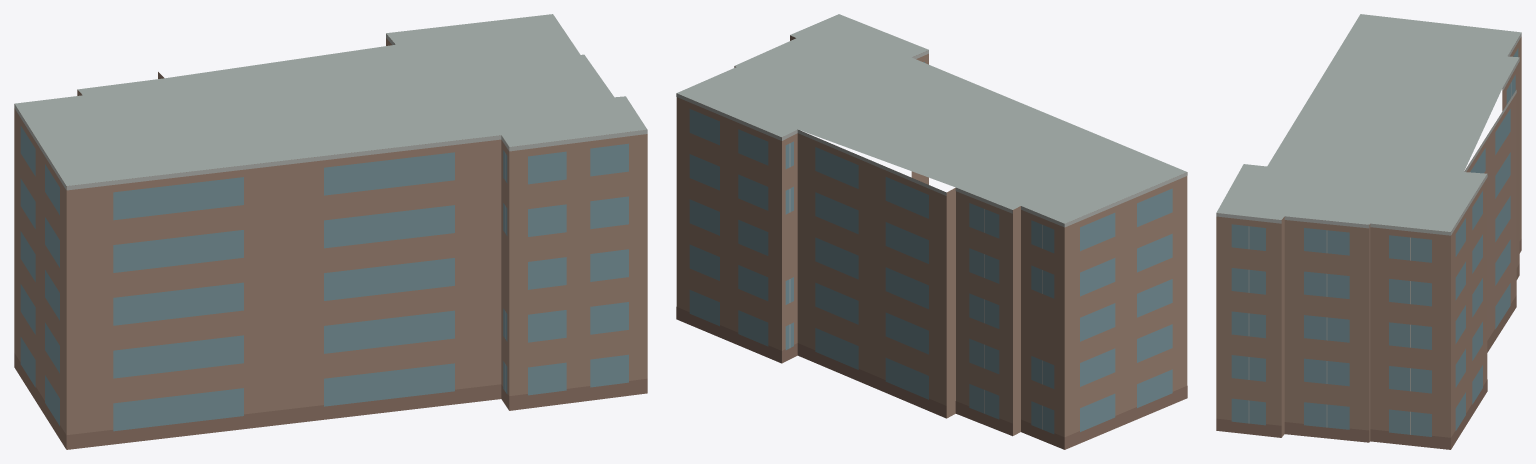
The model's file is survey-upis-33006736.glb.
The picture shows the model from 3 angles, left to right: view 1: azimuth 30°, elevation 25°; view 2: azimuth 150°, elevation 25°; view 3: azimuth 270°, elevation 25°; orthographic projection. The views are drawn at different scales.
Parts seen in each view (by area): view 1: survey-upis-33006736.tmp; view 2: survey-upis-33006736.tmp; view 3: survey-upis-33006736.tmp.
Boxes of the visible parts, left/top/right/bottom form: survey-upis-33006736.tmp: left=14, top=14, right=647, bottom=449; survey-upis-33006736.tmp: left=676, top=14, right=1187, bottom=449; survey-upis-33006736.tmp: left=1216, top=14, right=1521, bottom=449.
Size of the model in its own units: 31.79 by 14.8 by 18.82.
